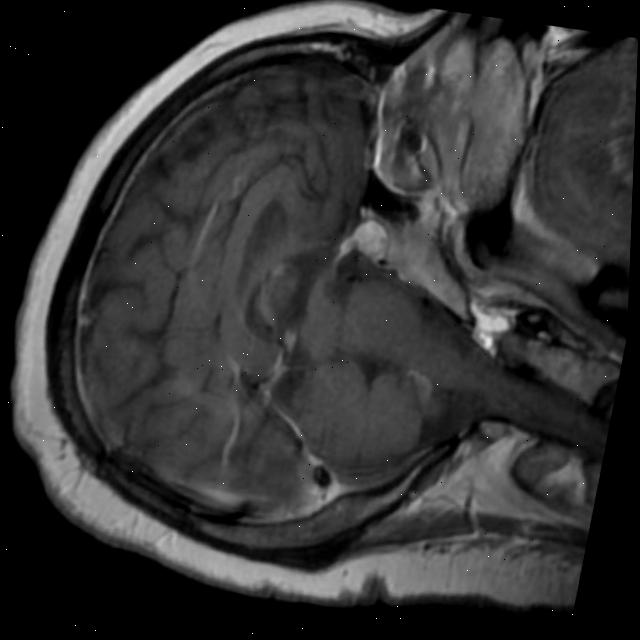Pituitary: (335, 214, 392, 265)
